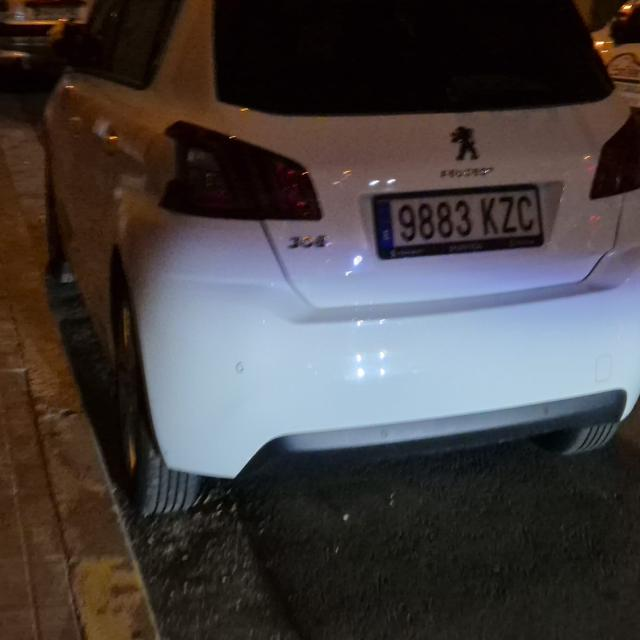license_plate-34Td: (371, 183, 553, 259)
